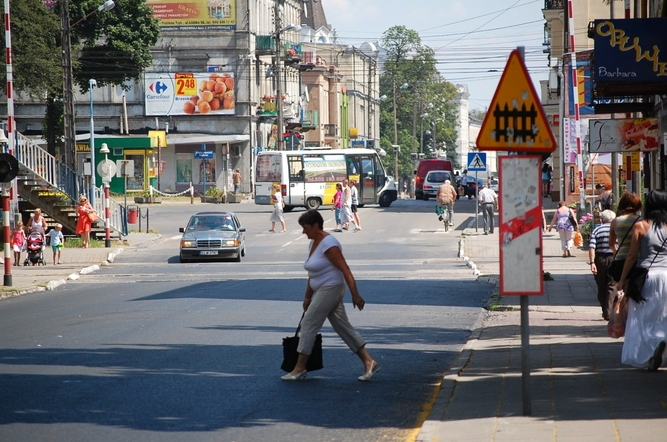a9: (490, 99, 542, 147)
